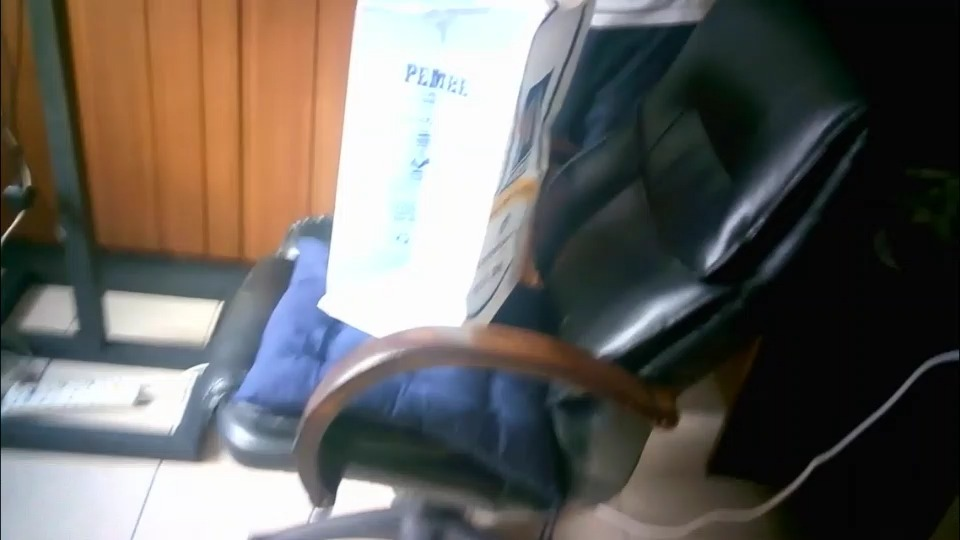wheat_flour_blue_label: (316, 2, 598, 348)
